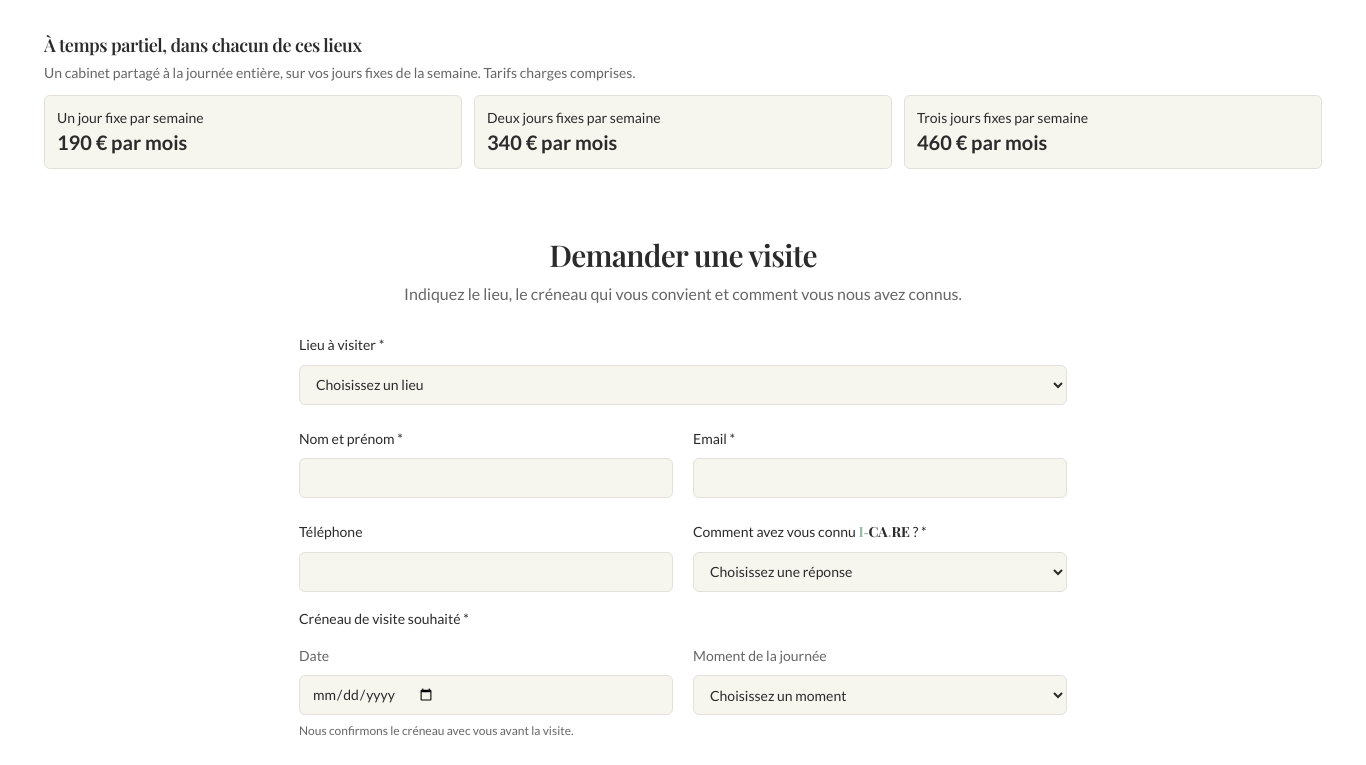
Test case: demande de visite › F6 refus du serveur : message lisible, formulaire conserve
This screenshot has width=1366, height=765.
(page scrolled)
Select "I‑CA.RE Le Bouscat" in the dropdown labelled "Lieu à visiter *" at point(683, 384), box [299,364,1067,404]
Type "Personne Fictive" into the field labelled "Nom et prénom *".
click(486, 478); type("Personne Fictive")  # box [299,458,673,498]
Type "personne@example.invalid" into the field labelled "Email *".
click(880, 478); type("personne@example.invalid")  # box [693,458,1067,498]
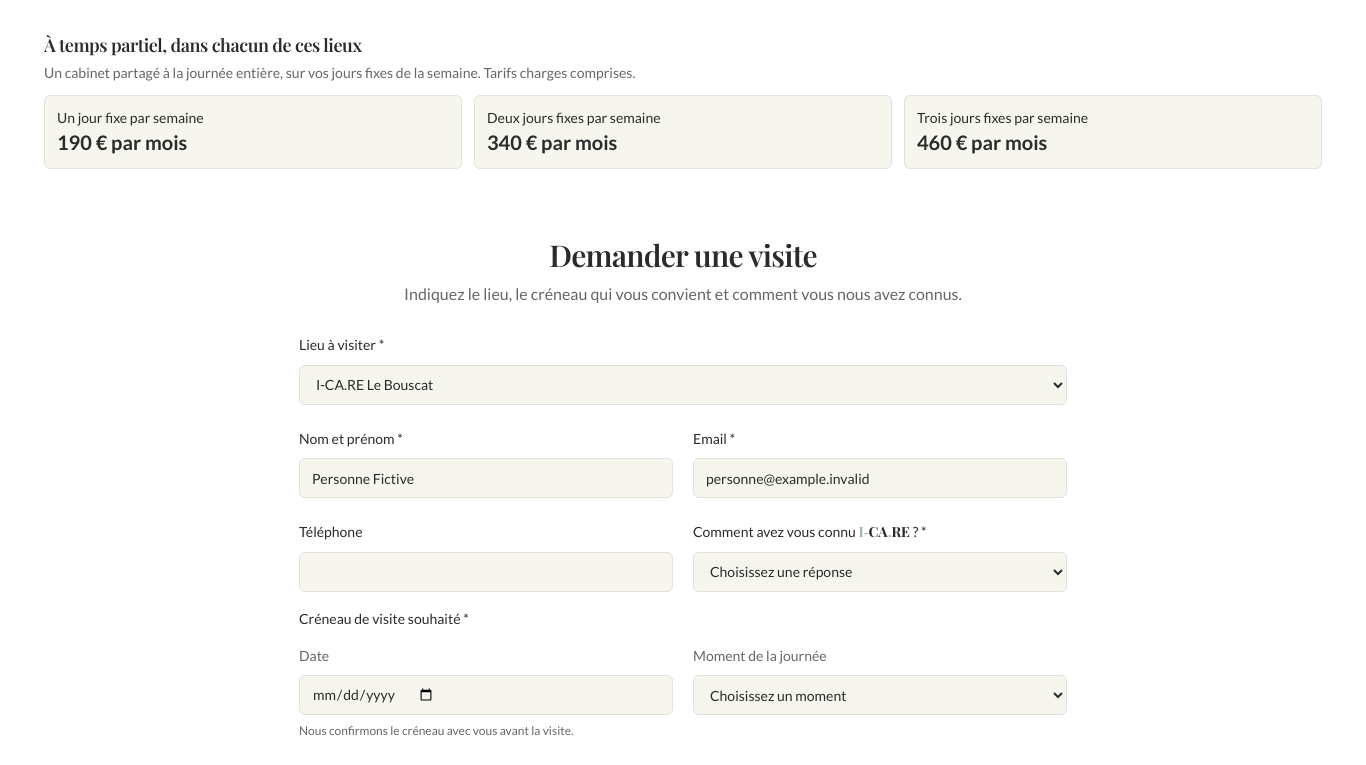
Select "LinkedIn" in the dropdown labelled "Comment avez vous connu I‑CA.RE ? *" at point(880, 572), box [693,552,1067,592]
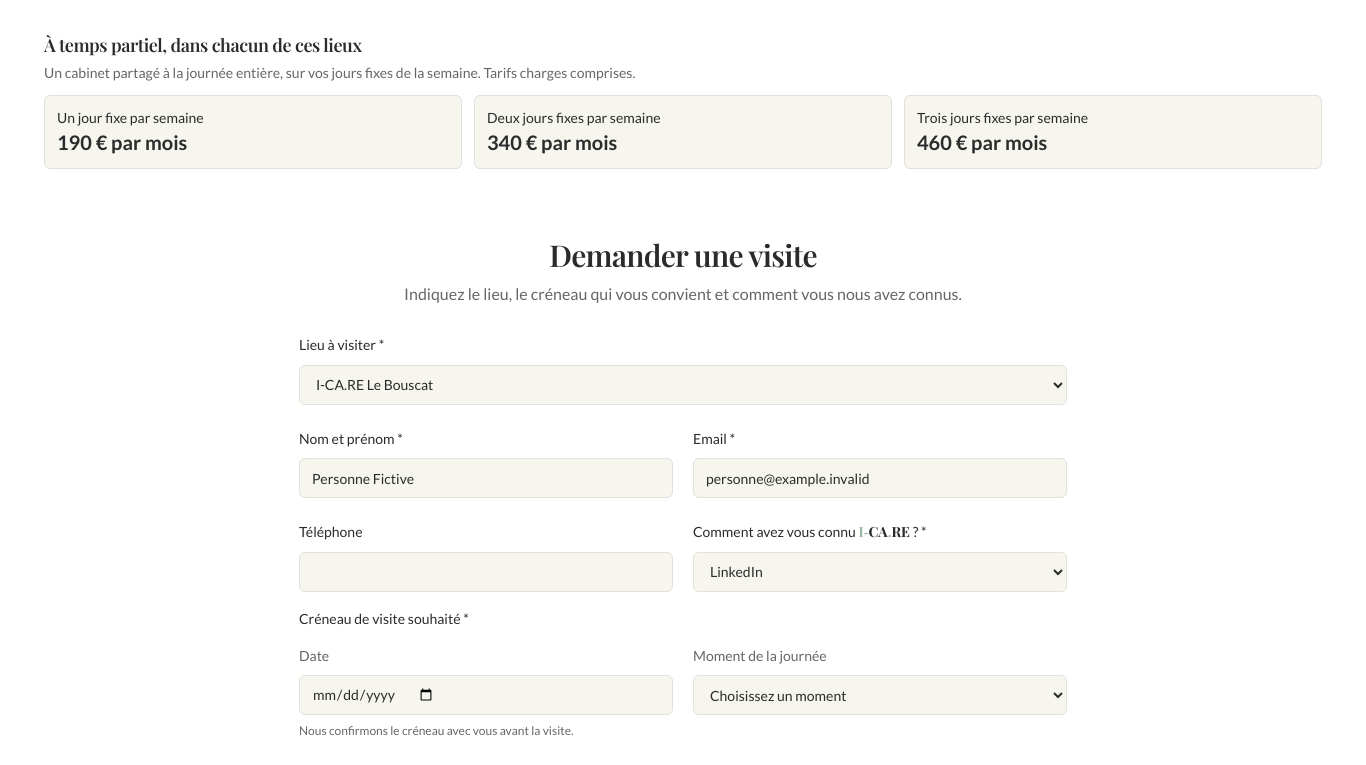
Type "2031-01-15" into the date field labelled "Date".
click(486, 695); type("2031-01-15")  # box [299,675,673,715]
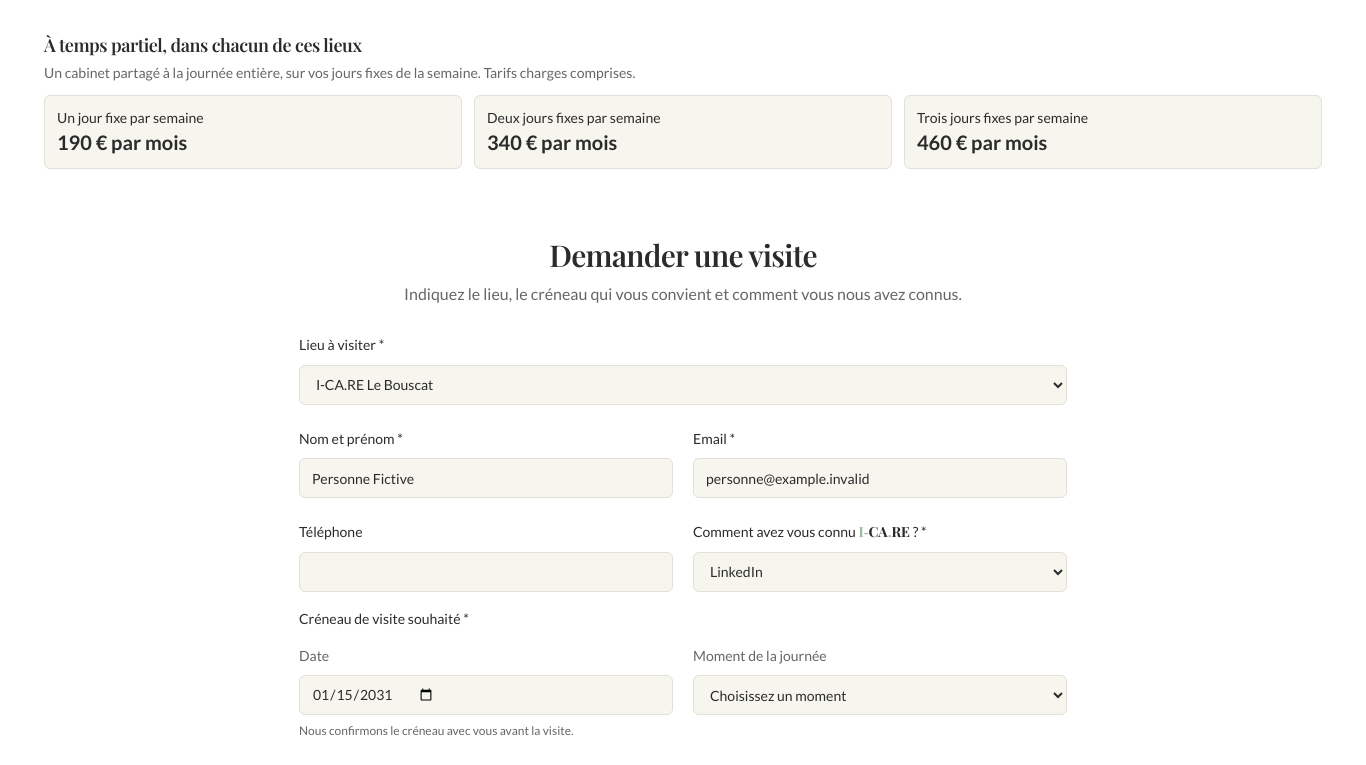
Select "Matin (9 h à 12 h)" in the dropdown labelled "Moment de la journée" at point(880, 695), box [693,675,1067,715]
(page scrolled)
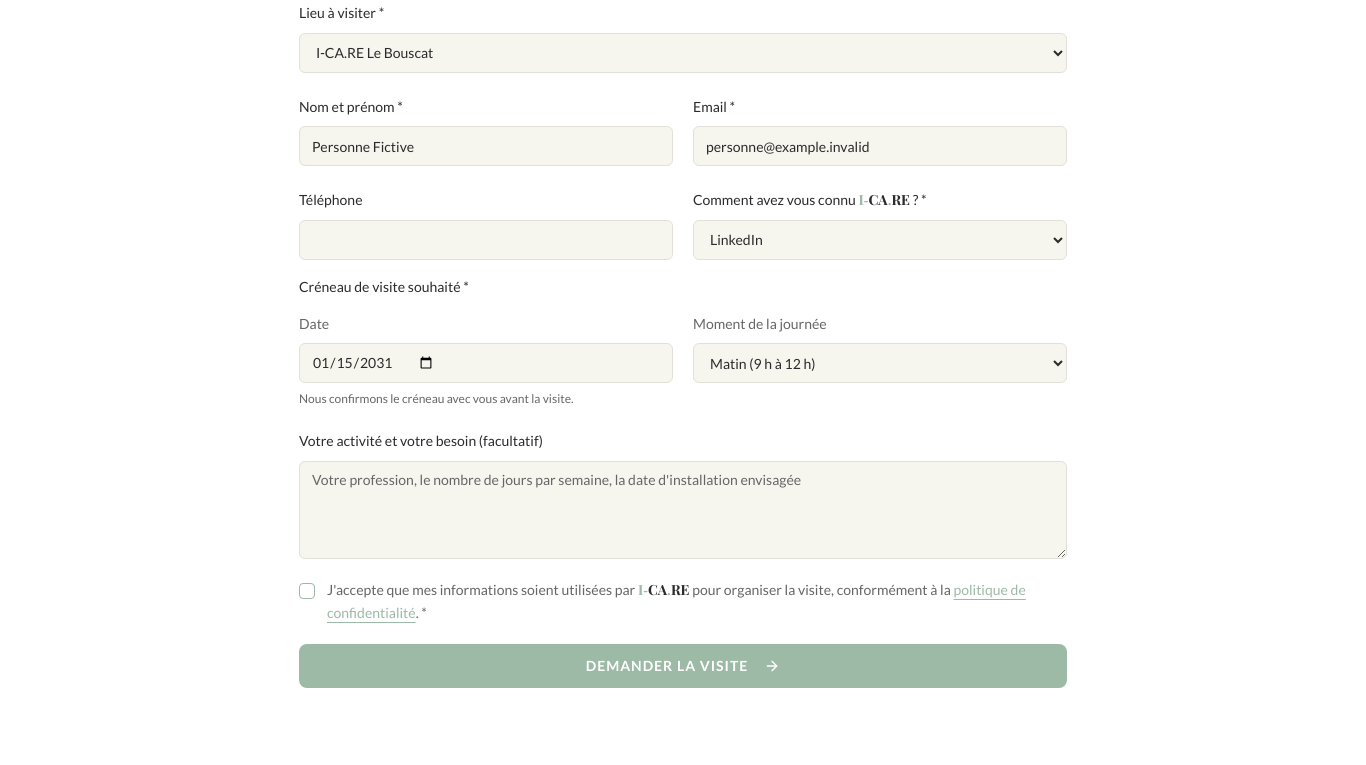
Click the checkbox.
click(307, 591)  # box [299,583,315,599]
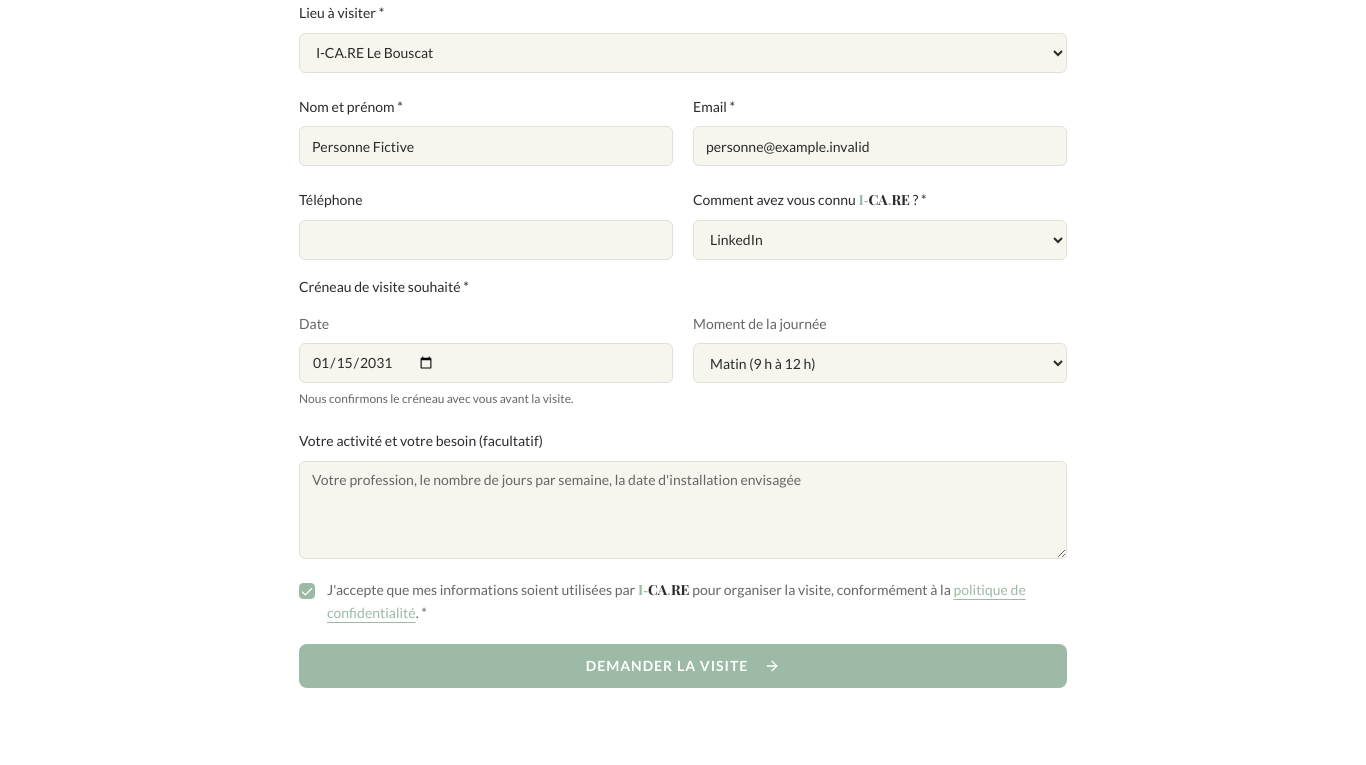
Click the button "Demander la visite".
click(683, 666)  # box [299,644,1067,688]
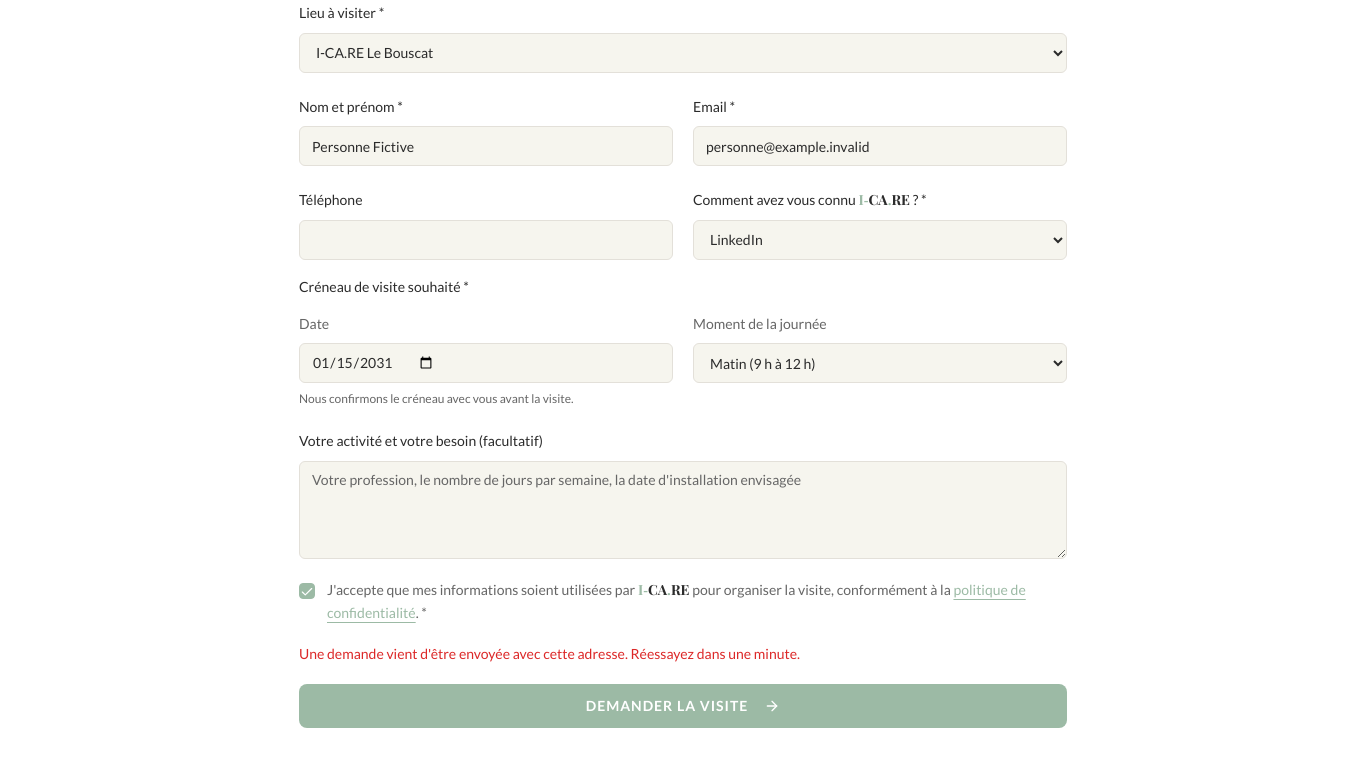
Result: the message shows "Réessayez dans une minute" at [299,645,800,662]
